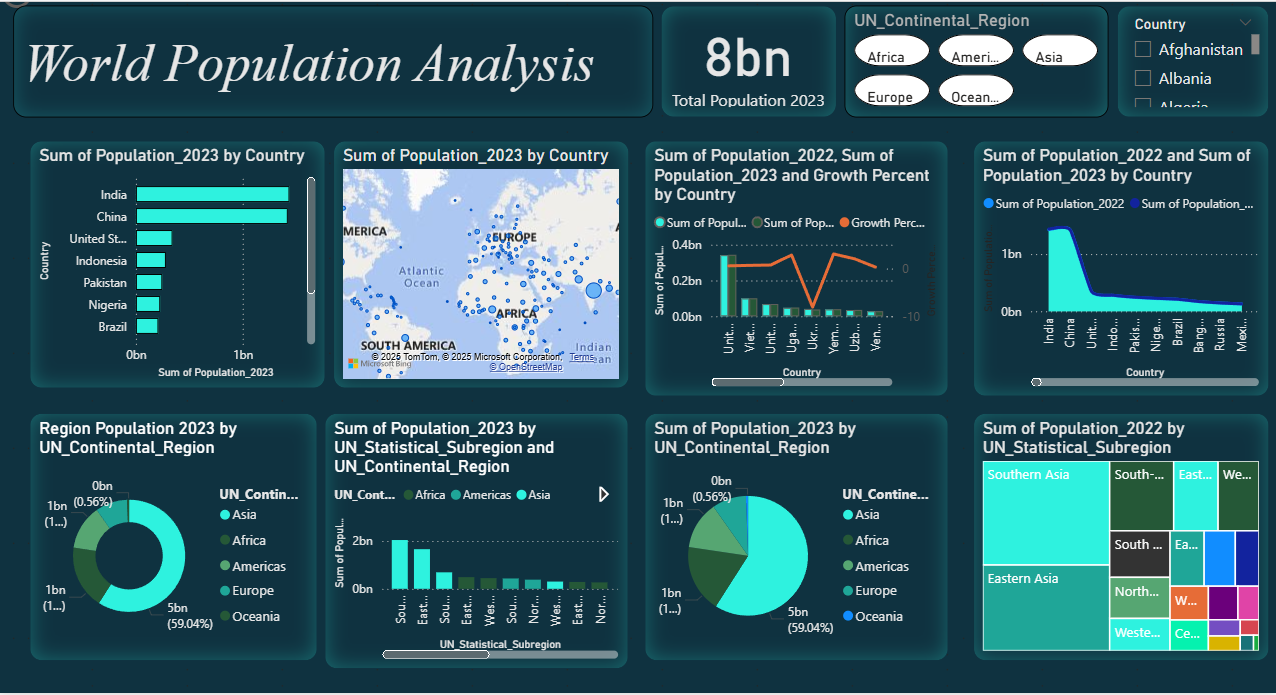

The dashboard page shown, as its layout file describes it:
{"tool":"powerbi","page":{"name":"Page 1","canvas":[1280,720],"ordinal":0},"visuals":[{"type":"card","fields":{"Values":["cleaned_population_data.Total Population 2023"]},"box":[664,32,176,112],"z":0},{"type":"clusteredBarChart","fields":{"Y":["Sum(cleaned_population_data.Population_2023)"],"Category":["cleaned_population_data.Country"]},"box":[32,168,296,248],"z":1000},{"type":"donutChart","fields":{"Category":["cleaned_population_data.UN_Continental_Region"],"Y":["cleaned_population_data.Region Population 2023"]},"box":[32,440,288,248],"z":2000},{"type":"map","fields":{"Category":["cleaned_population_data.Country"],"Size":["Sum(cleaned_population_data.Population_2023)"]},"box":[336,168,296,248],"z":3000},{"type":"lineClusteredColumnComboChart","fields":{"Category":["cleaned_population_data.Country"],"Y":["Sum(cleaned_population_data.Population_2022)","Sum(cleaned_population_data.Population_2023)"],"Y2":["cleaned_population_data.Growth Percent"]},"box":[648,168,304,256],"z":4000},{"type":"columnChart","fields":{"Category":["cleaned_population_data.UN_Statistical_Subregion"],"Y":["Sum(cleaned_population_data.Population_2023)"],"Series":["cleaned_population_data.UN_Continental_Region"]},"box":[328,440,304,256],"z":5000},{"type":"areaChart","fields":{"Category":["cleaned_population_data.Country"],"Y":["Sum(cleaned_population_data.Population_2022)","Sum(cleaned_population_data.Population_2023)"]},"box":[976,168,296,256],"z":6000},{"type":"treemap","fields":{"Group":["cleaned_population_data.UN_Statistical_Subregion"],"Values":["Sum(cleaned_population_data.Population_2022)"]},"box":[976,440,296,248],"z":7000},{"type":"pieChart","fields":{"Y":["Sum(cleaned_population_data.Population_2023)"],"Category":["cleaned_population_data.UN_Continental_Region"]},"box":[648,440,304,248],"z":8000},{"type":"advancedSlicerVisual","fields":{"Values":["cleaned_population_data.UN_Continental_Region"]},"box":[848,32,264,112],"z":9000},{"type":"slicer","fields":{"Values":["cleaned_population_data.Country"]},"box":[1120,32,152,112],"z":10000},{"type":"actionButton","box":[0,0,100,40],"z":11000},{"type":"textbox","box":[16,32,640,112],"z":12000}]}

Visuals, with their boxes on the page's 1280x720 design canvas (x1, y1, x2, y2). These are canvas units, not pixel positions in the 1276x695 screenshot, which may show the page scaled, cropped or inside an application window:
card - cleaned_population_data.Total Population 2023: (664,32,840,144)
clusteredBarChart - Sum(cleaned_population_data.Population_2023) x cleaned_population_data.Country: (32,168,328,416)
donutChart - cleaned_population_data.UN_Continental_Region x cleaned_population_data.Region Population 2023: (32,440,320,688)
map - cleaned_population_data.Country x Sum(cleaned_population_data.Population_2023): (336,168,632,416)
lineClusteredColumnComboChart - cleaned_population_data.Country x Sum(cleaned_population_data.Population_2022): (648,168,952,424)
columnChart - cleaned_population_data.UN_Statistical_Subregion x Sum(cleaned_population_data.Population_2023): (328,440,632,696)
areaChart - cleaned_population_data.Country x Sum(cleaned_population_data.Population_2022): (976,168,1272,424)
treemap - cleaned_population_data.UN_Statistical_Subregion x Sum(cleaned_population_data.Population_2022): (976,440,1272,688)
pieChart - Sum(cleaned_population_data.Population_2023) x cleaned_population_data.UN_Continental_Region: (648,440,952,688)
advancedSlicerVisual - cleaned_population_data.UN_Continental_Region: (848,32,1112,144)
slicer - cleaned_population_data.Country: (1120,32,1272,144)
actionButton: (0,0,100,40)
textbox: (16,32,656,144)
